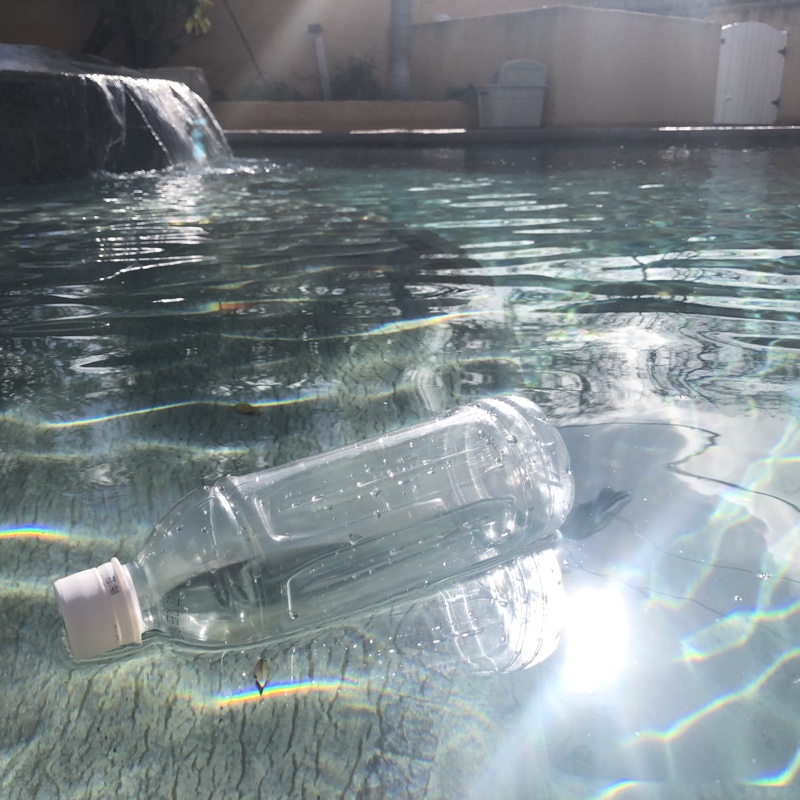Plastic Bottle: (46, 389, 580, 671)
